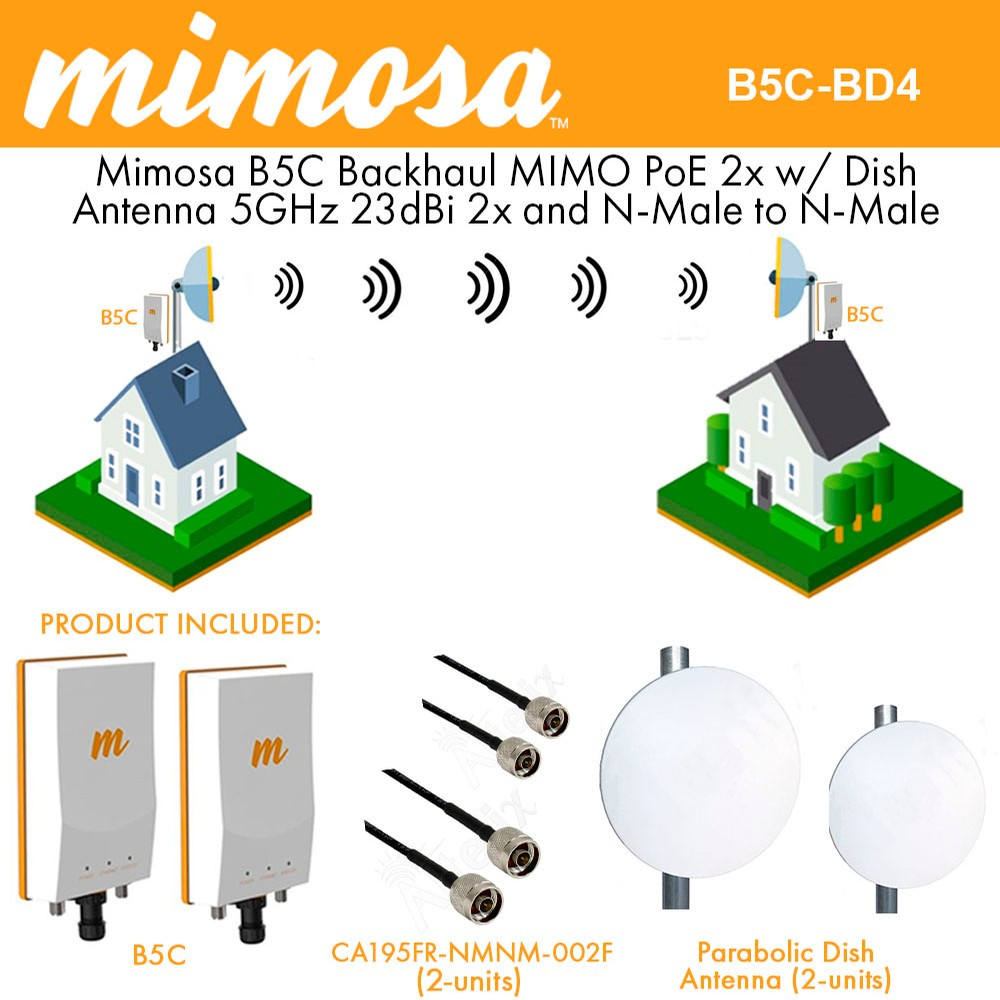ba: (594, 619, 815, 913), (832, 675, 982, 930)
